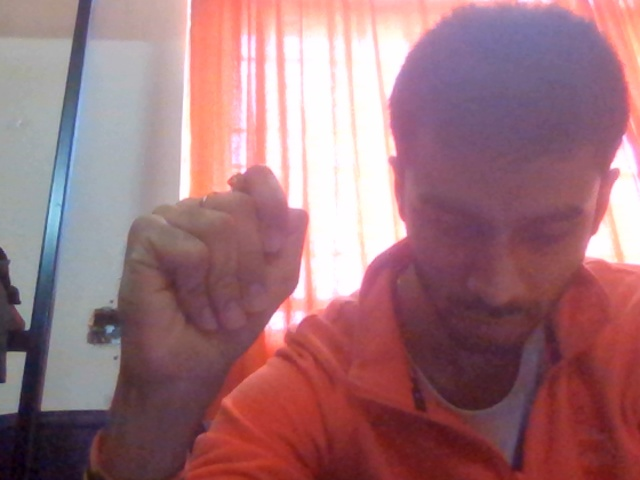T: (102, 146, 356, 444)
